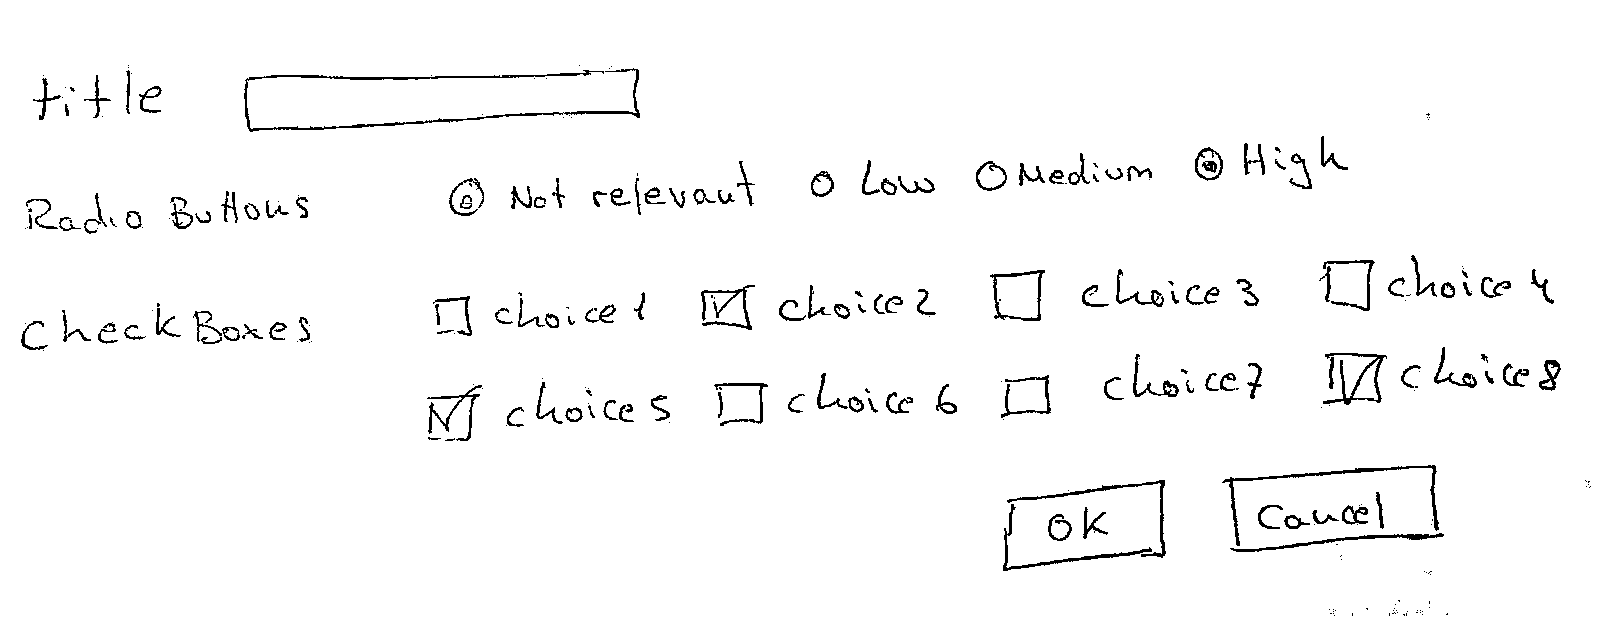Button: (1221, 459, 1449, 557), (992, 469, 1169, 581)
Check Box: (982, 259, 1272, 334), (421, 377, 678, 451), (1310, 247, 1519, 316), (696, 277, 943, 334), (429, 283, 657, 343)
Heading: (24, 63, 172, 130)
Radio Button: (435, 163, 759, 226), (1184, 126, 1355, 200)
Textbox: (235, 63, 649, 136)
